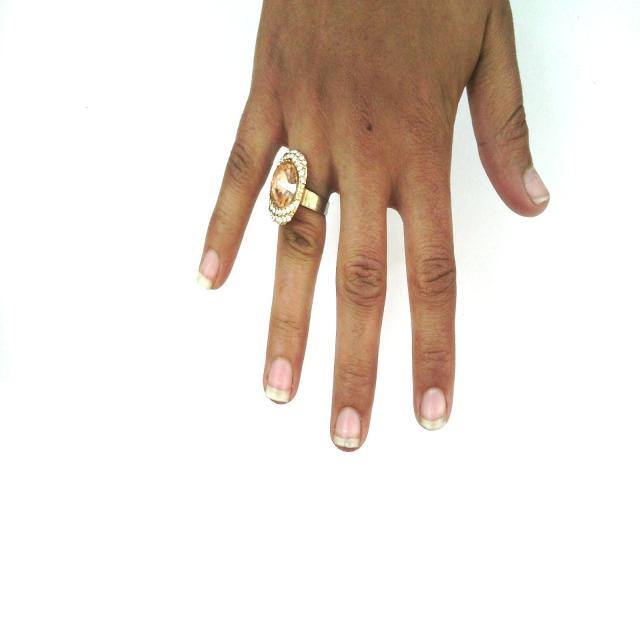Fingernail: (267, 358, 292, 403), (419, 388, 446, 429), (334, 408, 361, 448), (524, 167, 549, 203), (200, 251, 218, 287)
